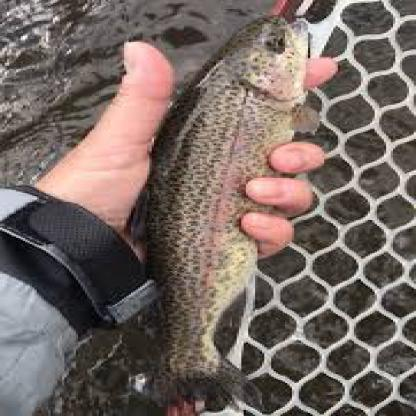fish: (121, 14, 317, 404)
